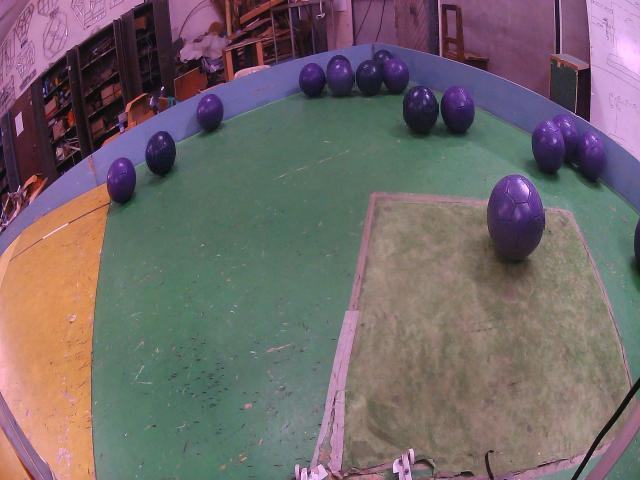jambhalya: (487, 175, 544, 260), (532, 120, 566, 173), (440, 85, 475, 133), (577, 131, 605, 181), (106, 157, 136, 203), (554, 113, 578, 162), (196, 95, 224, 131), (327, 60, 354, 95), (300, 63, 327, 97), (383, 59, 409, 93)
kaalyya: (404, 85, 438, 133), (146, 131, 177, 176), (355, 60, 382, 95), (327, 55, 350, 70), (373, 50, 392, 68)
